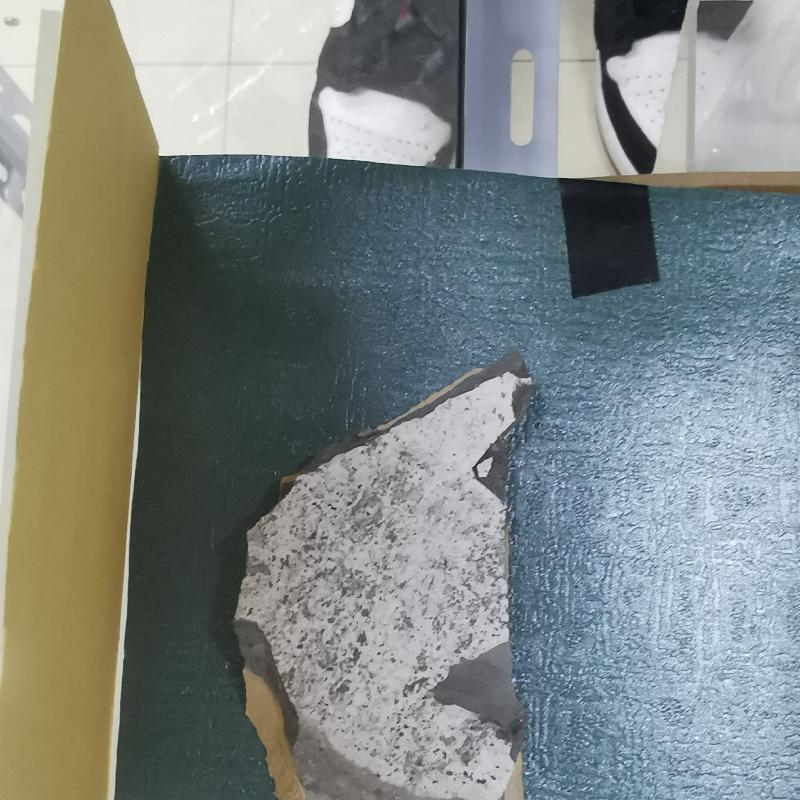tile: (224, 352, 550, 800)
